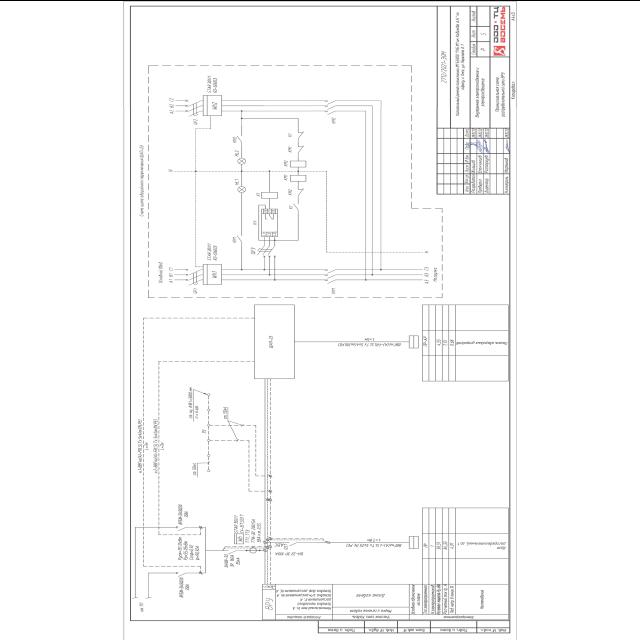-: (250, 518, 262, 542), (178, 576, 190, 598), (224, 554, 242, 568), (177, 504, 189, 524), (262, 594, 274, 614), (274, 550, 304, 556)
QS: (225, 548, 238, 554), (175, 570, 188, 576), (286, 540, 298, 546), (175, 524, 187, 530)
TT: (249, 545, 257, 553)
WH: (233, 532, 245, 544)
